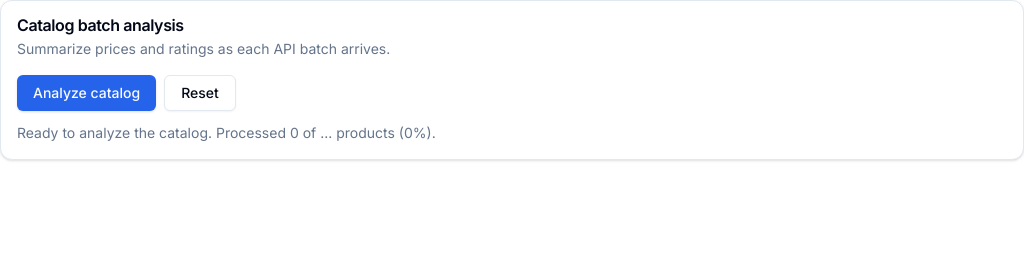
product batch processing panel › shows completion when the dataset fits in one page
The image size is (1024, 260).
Click the button "Analyze catalog": (87, 93) [17, 75, 156, 111]
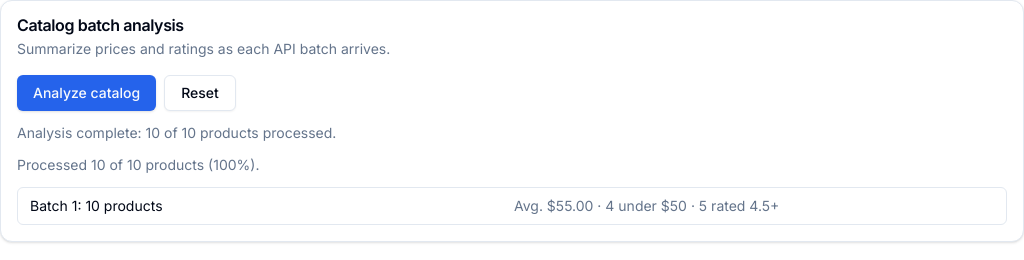
expect the text "Analysis complete: 10 of 10 products processed." is shown: met, box [17, 124, 336, 141]
